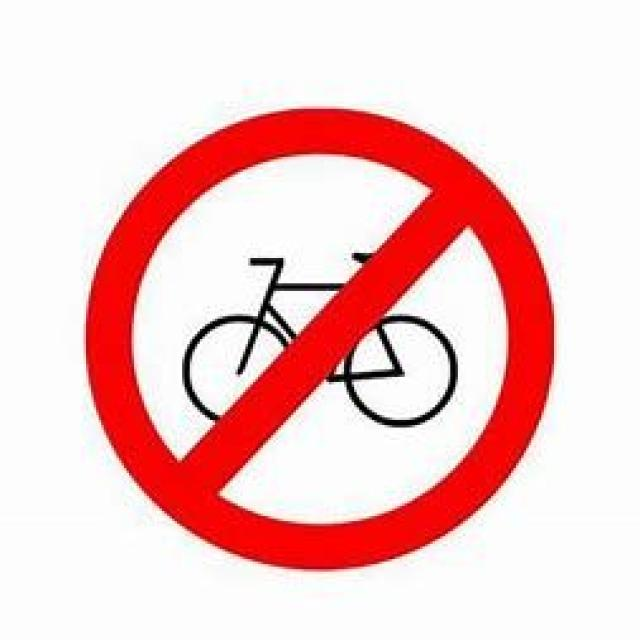CYCLE_PROHIBITED: (79, 102, 556, 576)
